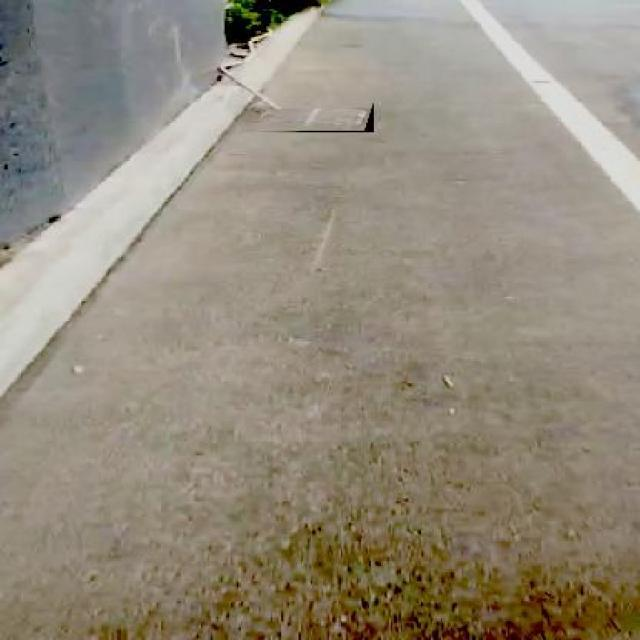Manhole: (260, 103, 374, 132)
